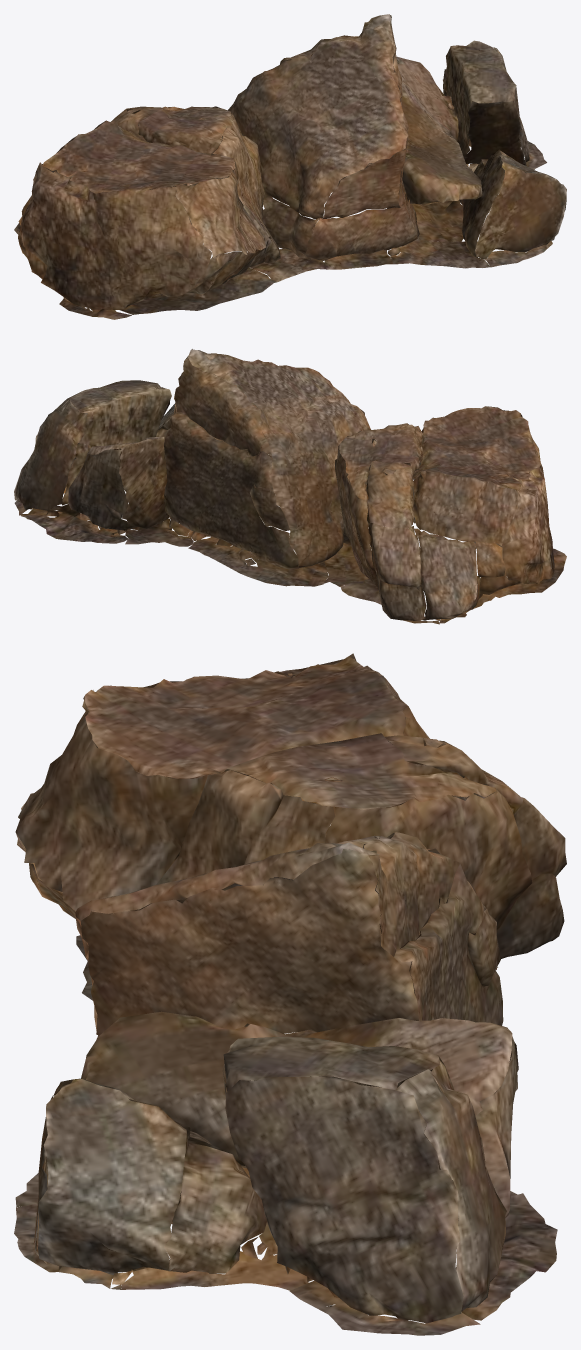
Rendered from namaqualand_boulder_02.glb.
3 renders of one model, top to bottom at view 1: azimuth 30°, elevation 25°; view 2: azimuth 150°, elevation 25°; view 3: azimuth 270°, elevation 25°, orthographic. The views are drawn at different scales.
Visible parts, largest first — view 1: boulder_02; view 2: boulder_02; view 3: boulder_02.
Part boxes in pixels (box(x1,y1,x2,y2)): boulder_02: box(14, 14, 566, 319); boulder_02: box(14, 349, 566, 624); boulder_02: box(14, 653, 566, 1335).
Size of the model in its own units: 2.52 by 0.8801 by 1.23.
Materials: 1 (1 with a texture image).
